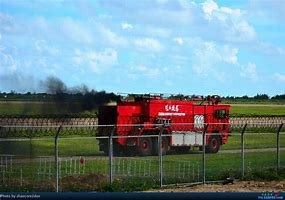smoke: (31, 85, 119, 117)
